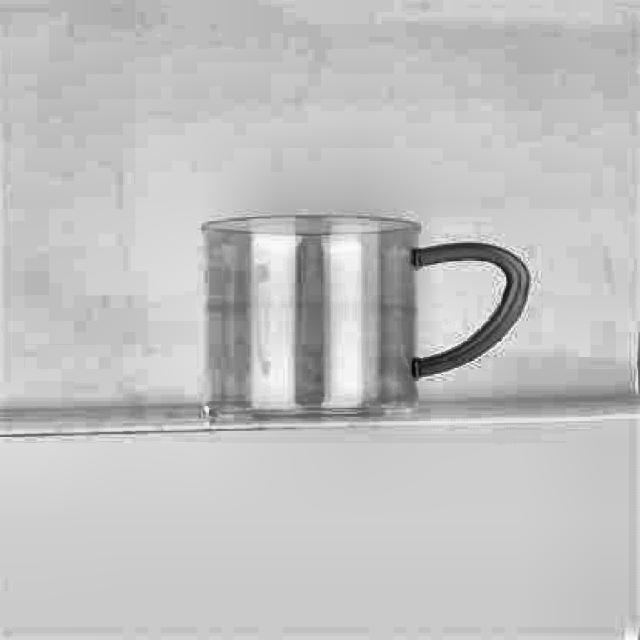Mug: (197, 215, 534, 422)
